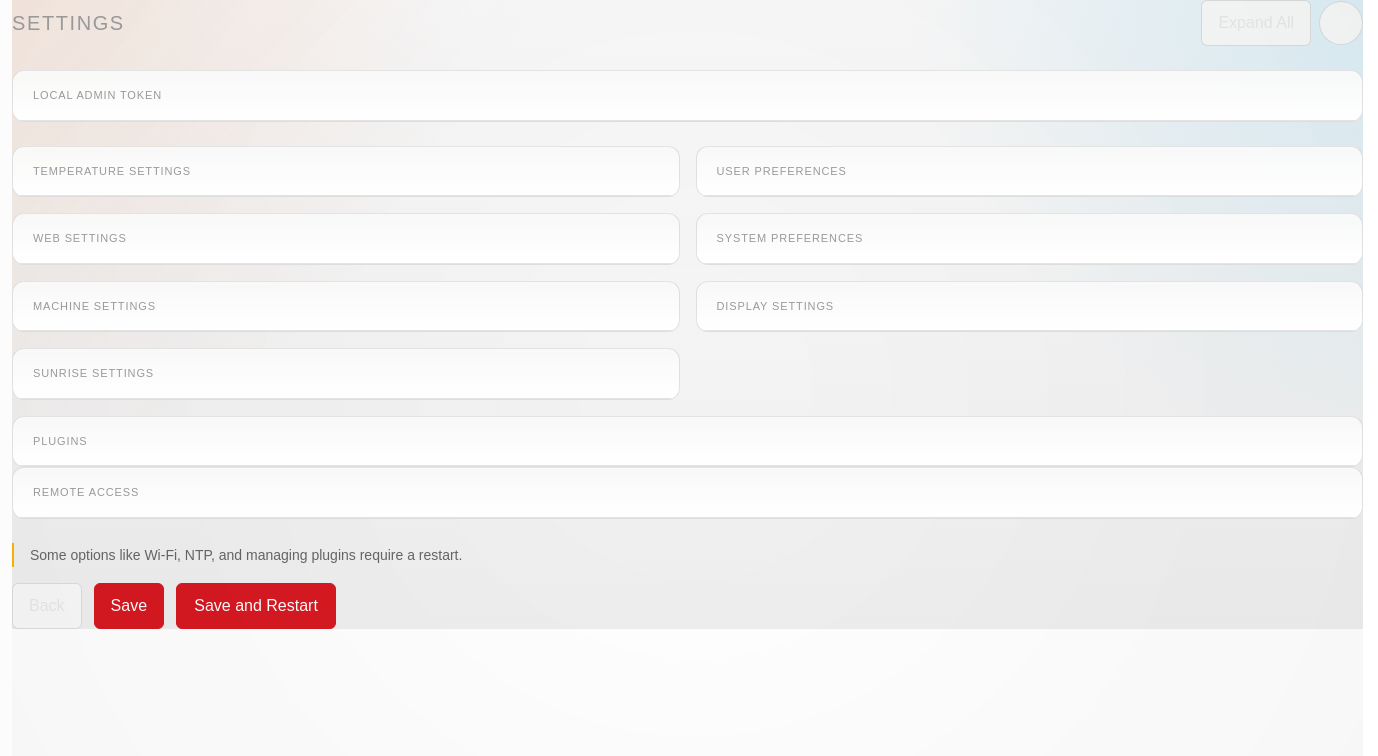
Settings custom accents (PRO-643) › inherits the app accent until the dashboard override is enabled
Step 1. Click the button "Web Settings" → (80, 238), box [33,230,658,246]
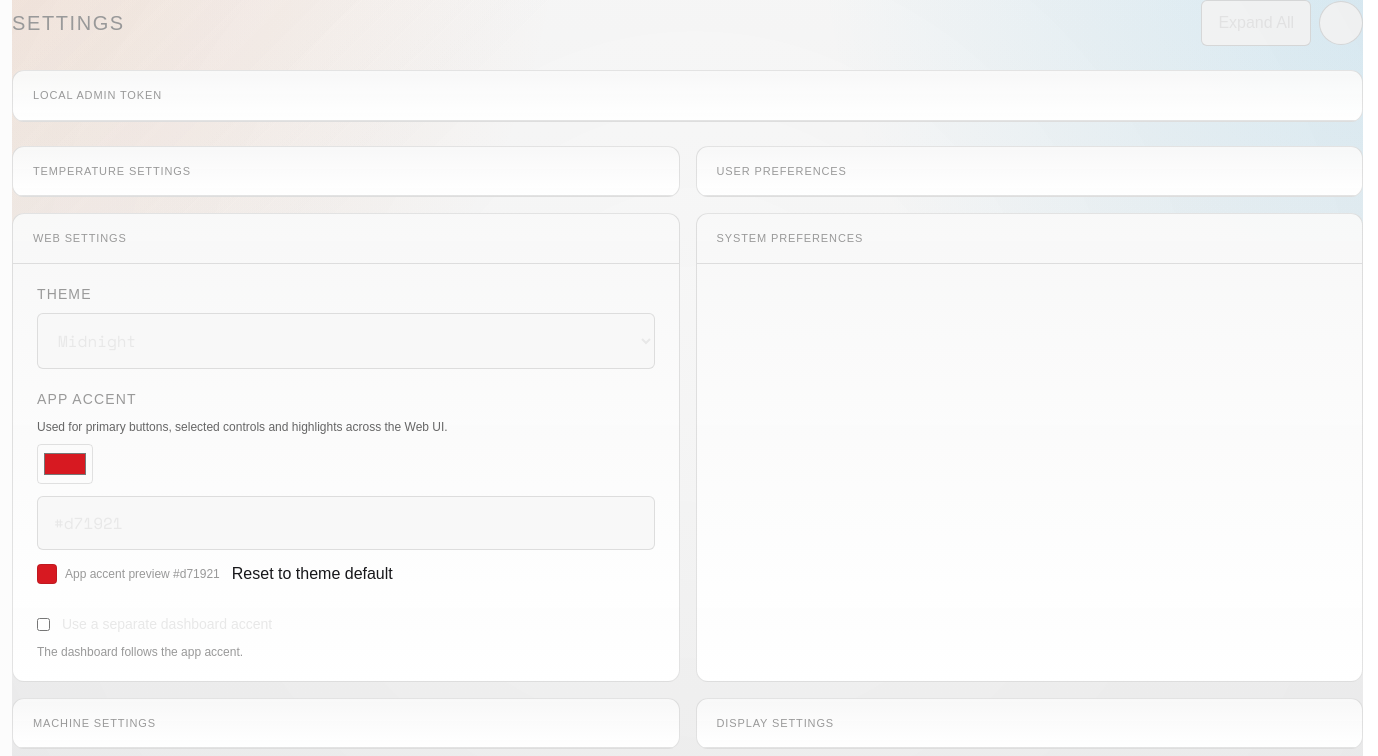
Check: the field labelled "Dashboard accent color" is not shown
Step 2. Click the checkbox labelled "Use a separate dashboard accent" → (44, 624), box [37,618,50,630]
(page scrolled)
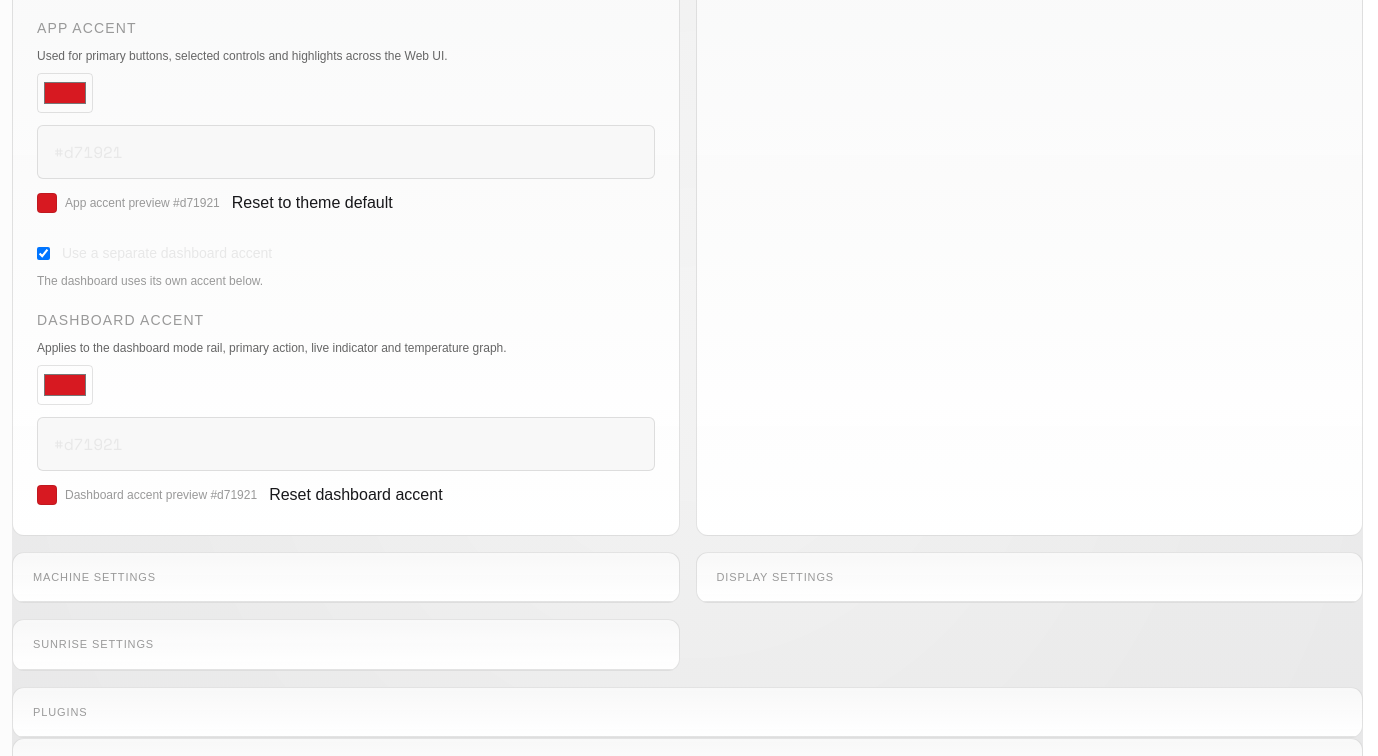
Check: the 2nd colour field named "Dashboard accent color" is shown, box [37,364,93,404]
